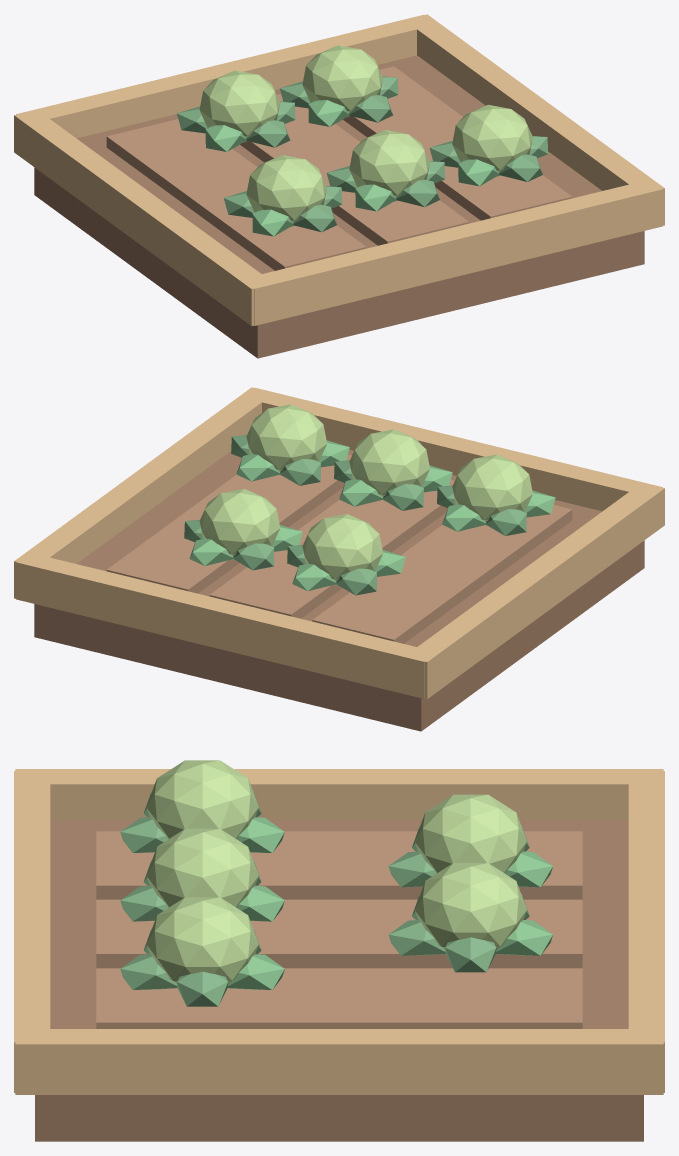
The model's file is plot_cabbage_mature.glb.
The picture shows the model from 3 angles, top to bottom: view 1: azimuth 30°, elevation 25°; view 2: azimuth 150°, elevation 25°; view 3: azimuth 270°, elevation 25°; orthographic projection. The views are drawn at different scales.
Parts seen in each view (by area): view 1: square soil bed.006, short timber edge.012, long timber edge.012, raised planting row.018, short timber edge.013, long timber edge.013, raised planting row.020, raised planting row.019, pale cabbage heart.006, pale cabbage heart.008, pale cabbage heart.005, pale cabbage heart.007 (+16 smaller); view 2: square soil bed.006, short timber edge.013, long timber edge.012, raised planting row.018, long timber edge.013, short timber edge.012, raised planting row.020, raised planting row.019, pale cabbage heart.005, pale cabbage heart.009, pale cabbage heart.006, pale cabbage heart.007 (+16 smaller); view 3: square soil bed.006, long timber edge.013, raised planting row.020, long timber edge.012, raised planting row.019, raised planting row.018, short timber edge.013, short timber edge.012, pale cabbage heart.007, pale cabbage heart.009, pale cabbage heart.006, pale cabbage heart.008 (+13 smaller).
Part boxes in pixels (<box>): square soil bed.006: <box>34,55,644,358</box>; short timber edge.012: <box>250,179,662,325</box>; long timber edge.012: <box>14,109,273,326</box>; raised planting row.018: <box>106,119,366,270</box>; short timber edge.013: <box>16,14,423,138</box>; long timber edge.013: <box>405,14,664,225</box>; raised planting row.020: <box>343,66,572,220</box>; raised planting row.019: <box>240,94,469,245</box>; pale cabbage heart.006: <box>349,130,429,201</box>; pale cabbage heart.008: <box>199,70,280,142</box>; pale cabbage heart.005: <box>246,155,326,226</box>; pale cabbage heart.007: <box>452,104,532,176</box>; square soil bed.006: <box>34,449,644,731</box>; short timber edge.013: <box>16,552,425,698</box>; long timber edge.012: <box>404,482,664,699</box>; raised planting row.018: <box>312,505,572,643</box>; long timber edge.013: <box>14,387,273,598</box>; short timber edge.012: <box>255,387,662,511</box>; raised planting row.020: <box>106,455,351,593</box>; raised planting row.019: <box>209,480,454,618</box>; pale cabbage heart.005: <box>452,454,532,526</box>; pale cabbage heart.009: <box>199,488,280,560</box>; pale cabbage heart.006: <box>349,429,429,501</box>; pale cabbage heart.007: <box>246,404,326,476</box>; square soil bed.006: <box>35,820,643,1141</box>; long timber edge.013: <box>15,1029,663,1094</box>; raised planting row.020: <box>96,968,582,1028</box>; long timber edge.012: <box>15,769,663,819</box>; raised planting row.019: <box>96,899,582,968</box>; raised planting row.018: <box>96,831,582,899</box>; short timber edge.013: <box>628,771,664,1092</box>; short timber edge.012: <box>14,771,50,1092</box>; pale cabbage heart.007: <box>146,897,258,984</box>; pale cabbage heart.009: <box>414,863,526,949</box>; pale cabbage heart.006: <box>146,828,258,907</box>; pale cabbage heart.008: <box>414,794,526,873</box>.
Size of the model in its own units: 2.33 by 0.7134 by 2.33.
